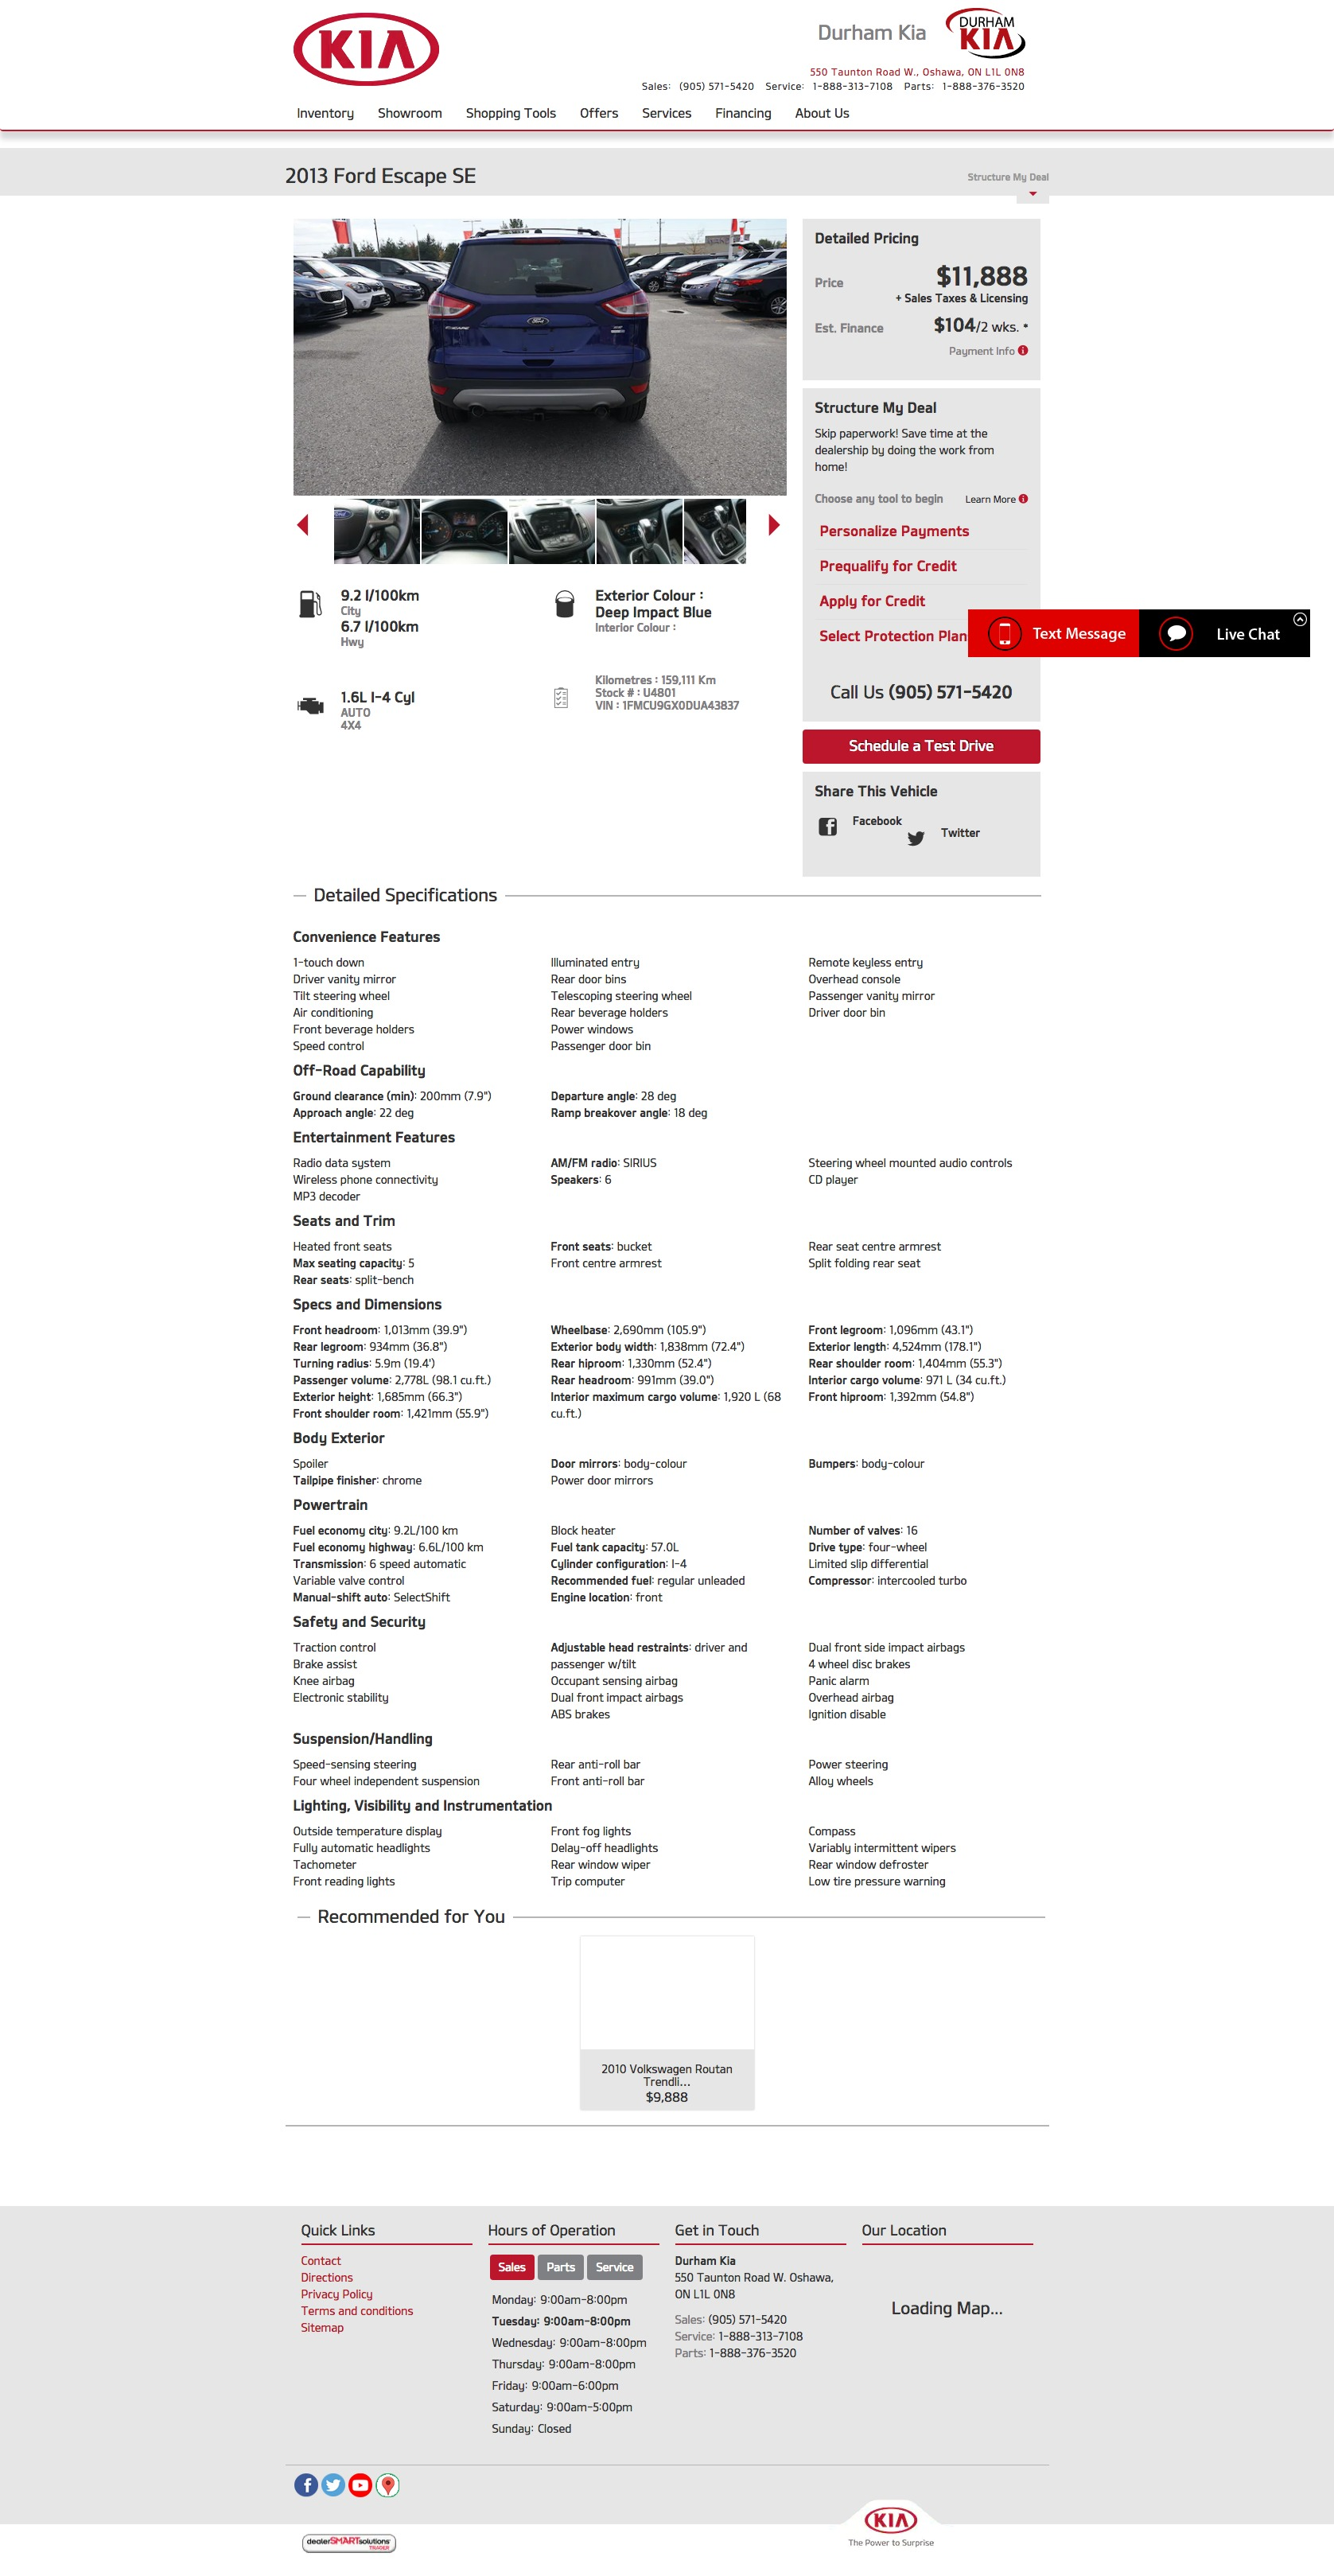car: (769, 516, 781, 538)
